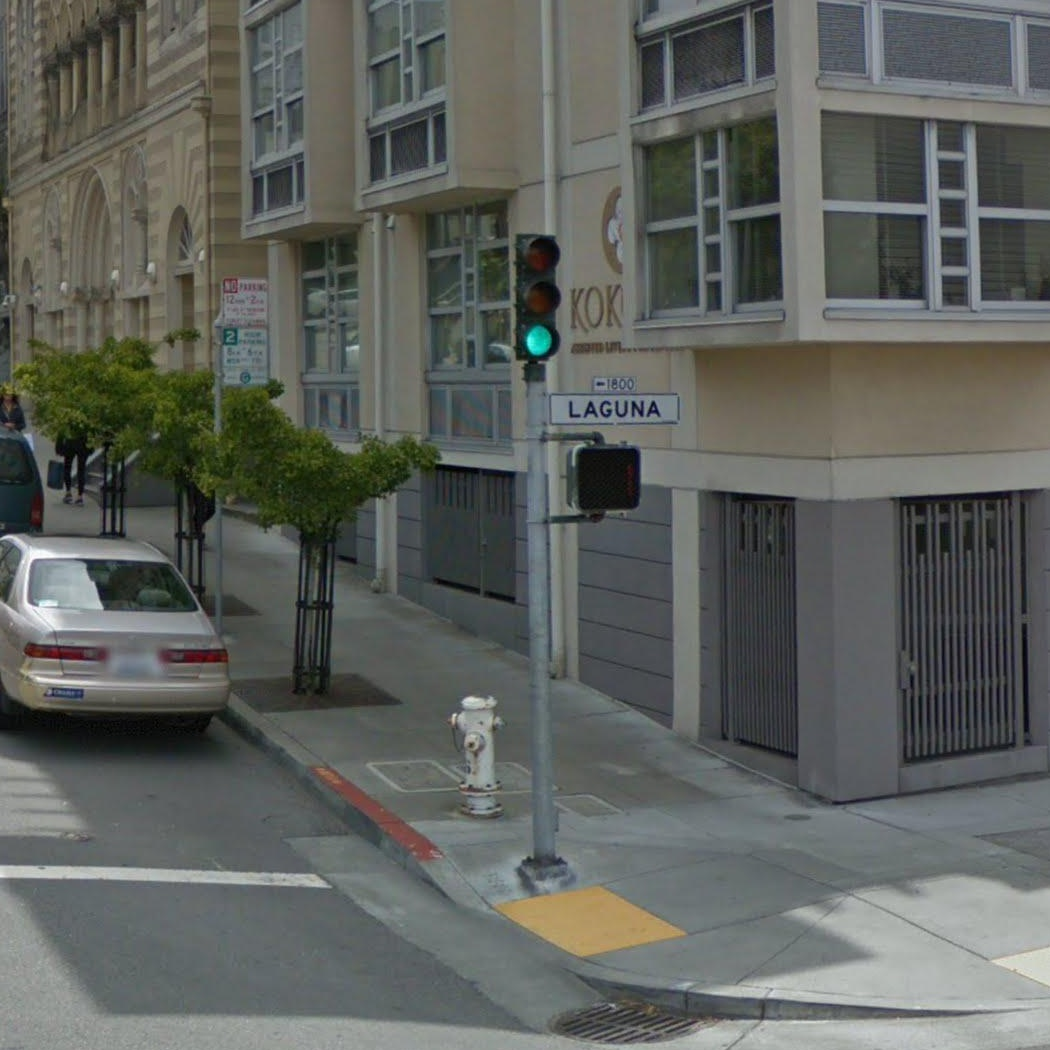2 Hour Parking: (221, 325, 270, 385)
No Parking: (222, 277, 268, 326)
